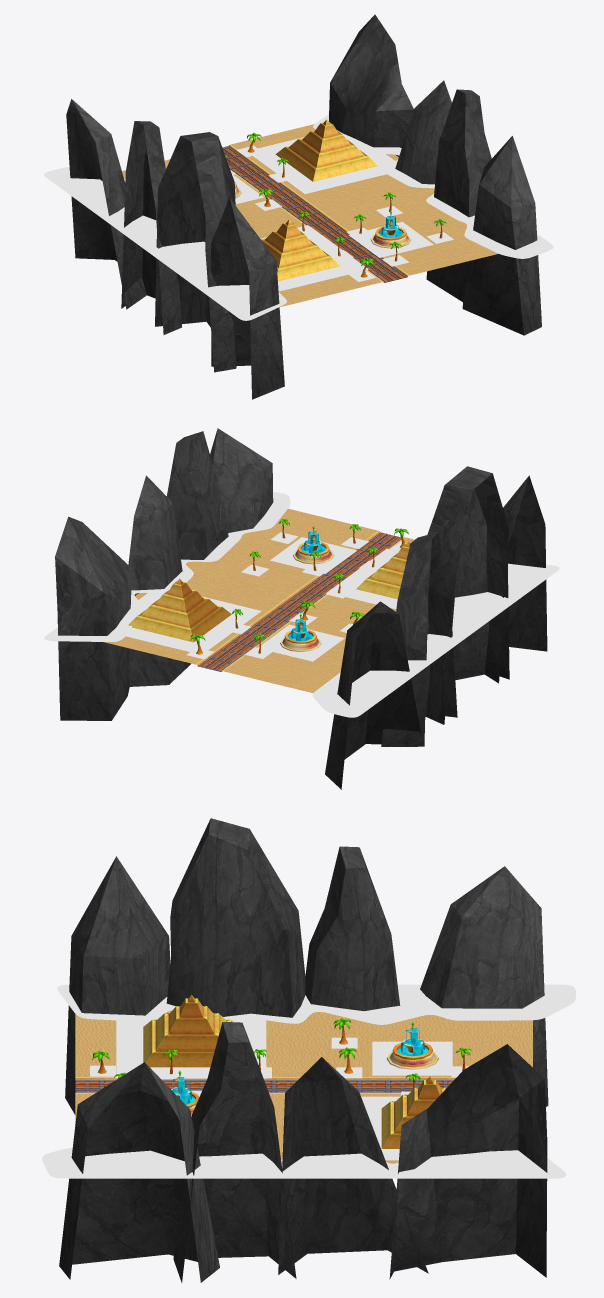
Rendered from Egypt_05.fbx.
3 renders of one model, top to bottom at view 1: azimuth 30°, elevation 25°; view 2: azimuth 150°, elevation 25°; view 3: azimuth 270°, elevation 25°, orthographic. The views are drawn at different scales.
Parts seen in each view (by area): view 1: Egypt_05; view 2: Egypt_05; view 3: Egypt_05.
Part boxes in pixels (x1=…): Egypt_05: x1=44, y1=14, x2=553, y2=399; Egypt_05: x1=44, y1=428, x2=559, y2=789; Egypt_05: x1=42, y1=818, x2=575, y2=1282.
Bounding box in the file's own units: 22617 × 13384 × 25170.
12 materials, 12 textured.
